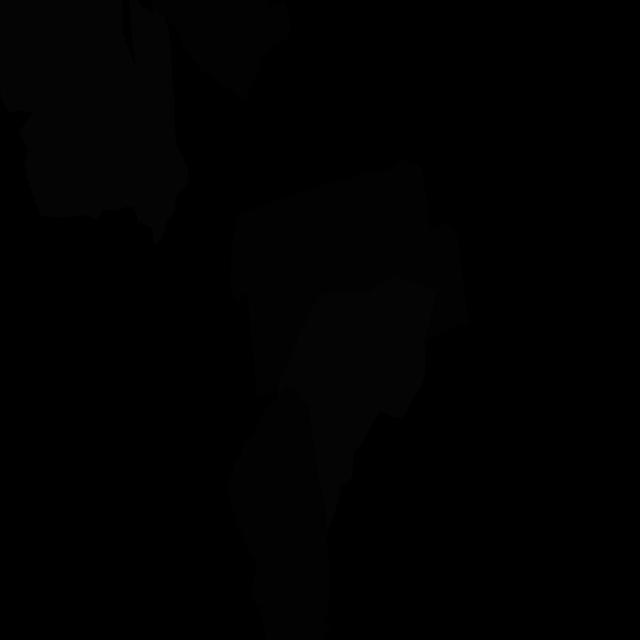cardboard: (230, 160, 469, 396), (227, 387, 330, 640), (147, 0, 291, 101)
soft_plastic: (276, 276, 438, 535), (19, 18, 149, 224), (129, 0, 189, 244), (0, 0, 123, 113)
